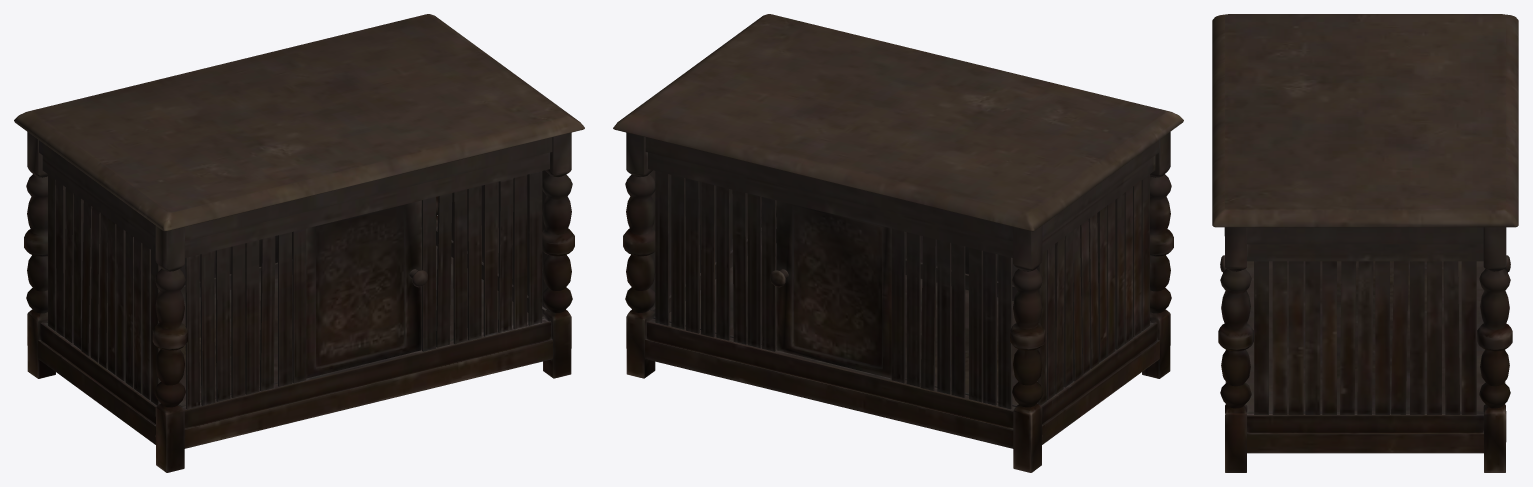
The model's file is gallinera_table.glb.
3 renders of one model, left to right at view 1: azimuth 30°, elevation 25°; view 2: azimuth 150°, elevation 25°; view 3: azimuth 270°, elevation 25°, orthographic.
Visible parts, largest first — view 1: gallinera_table; view 2: gallinera_table; view 3: gallinera_table.
Boxes of the visible parts, <box> form: gallinera_table: <box>14,14,584,472</box>; gallinera_table: <box>613,14,1183,472</box>; gallinera_table: <box>1212,14,1518,472</box>.
Bounding box in the file's own units: 0.8301 × 0.4872 × 0.5183.
Materials: 1 (1 with a texture image).
